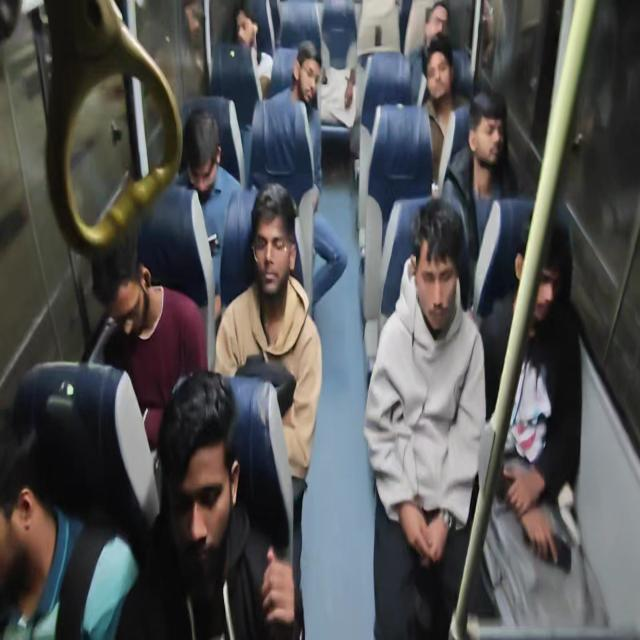person: (153, 365, 243, 581), (410, 202, 476, 342), (88, 217, 156, 344), (1, 395, 42, 593), (511, 211, 572, 331), (250, 186, 301, 310), (178, 106, 222, 190), (419, 36, 467, 101), (472, 92, 512, 169), (291, 43, 327, 112), (224, 0, 265, 60), (426, 0, 450, 44)
